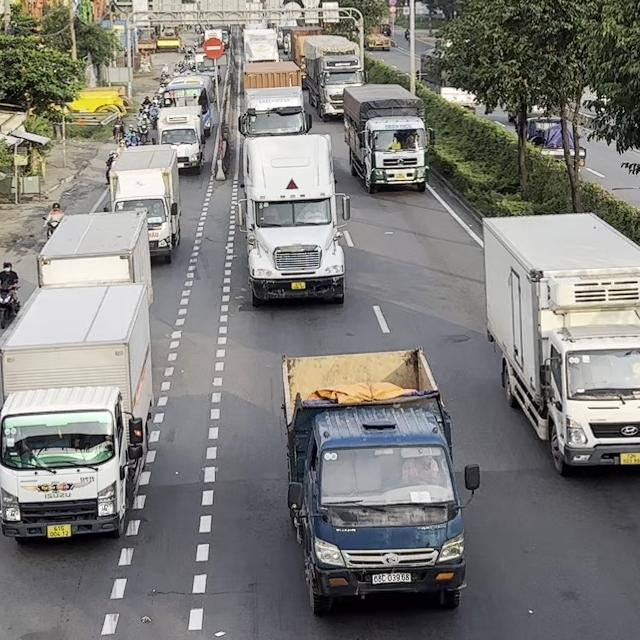bus: (161, 74, 216, 136)
motorcycle: (0, 281, 21, 329), (41, 214, 61, 239)
truck: (280, 346, 480, 616), (481, 211, 639, 476), (0, 283, 155, 543), (237, 132, 351, 307), (36, 209, 154, 307), (342, 82, 434, 194), (105, 144, 182, 263), (238, 60, 311, 136), (302, 34, 365, 121), (154, 105, 205, 174)
